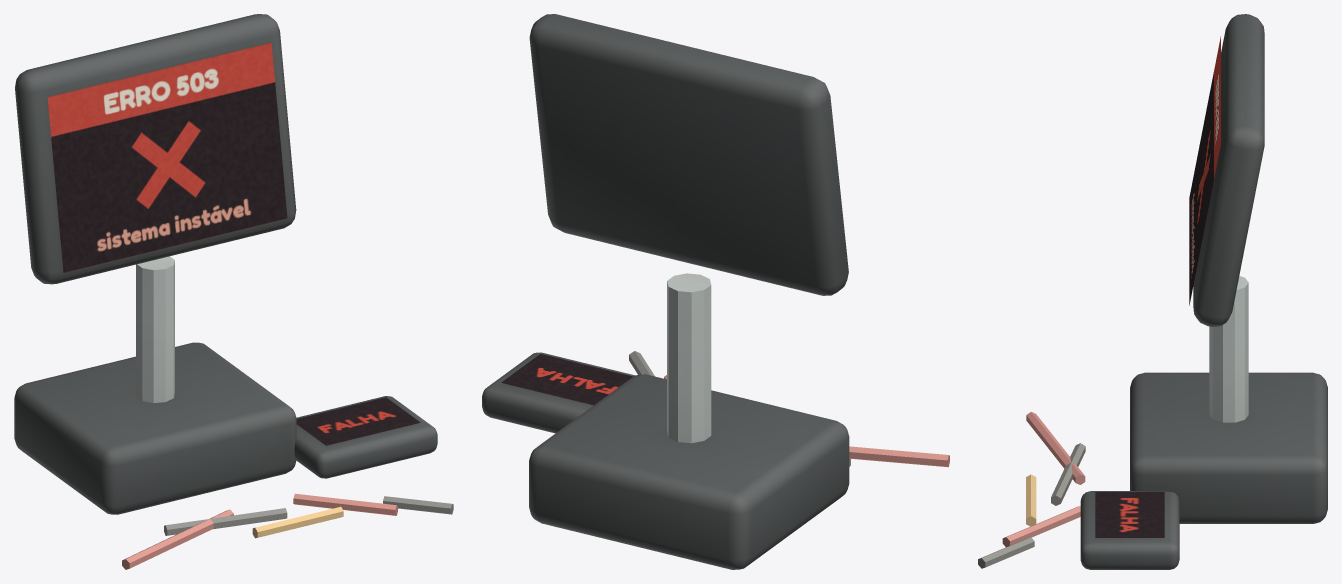
Rendered from BrokenTerminal.fbx.
3 views of the same model, side by side, from view 1: azimuth 30°, elevation 25°; view 2: azimuth 150°, elevation 25°; view 3: azimuth 270°, elevation 25° (orthographic). The views are drawn at different scales.
Visible parts, largest first — view 1: BrokenTerminal; view 2: BrokenTerminal; view 3: BrokenTerminal.
Part boxes in pixels (bbox=[...]): BrokenTerminal: bbox=[14, 14, 453, 569]; BrokenTerminal: bbox=[482, 14, 949, 569]; BrokenTerminal: bbox=[978, 14, 1327, 569].
Bounding box in the file's own units: 79.33 × 92.43 × 70.73.
